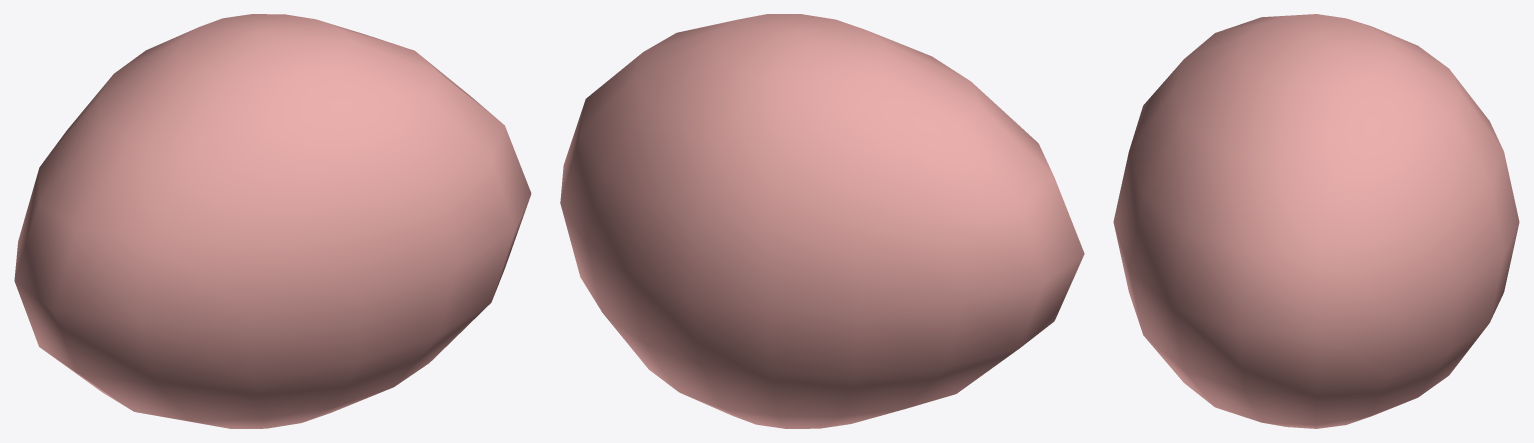
The model's file is naso_bianco.glb.
The picture shows the model from 3 angles, left to right: view 1: azimuth 30°, elevation 25°; view 2: azimuth 150°, elevation 25°; view 3: azimuth 270°, elevation 25°; orthographic projection. The views are drawn at different scales.
Parts seen in each view (by area): view 1: mastro_naso.001; view 2: mastro_naso.001; view 3: mastro_naso.001.
Part boxes in pixels (left/top/right/bottom): mastro_naso.001: left=14, top=14, right=531, bottom=428; mastro_naso.001: left=560, top=14, right=1084, bottom=428; mastro_naso.001: left=1113, top=14, right=1519, bottom=428.
Size of the model in its own units: 0.0332 by 0.0248 by 0.0248.
